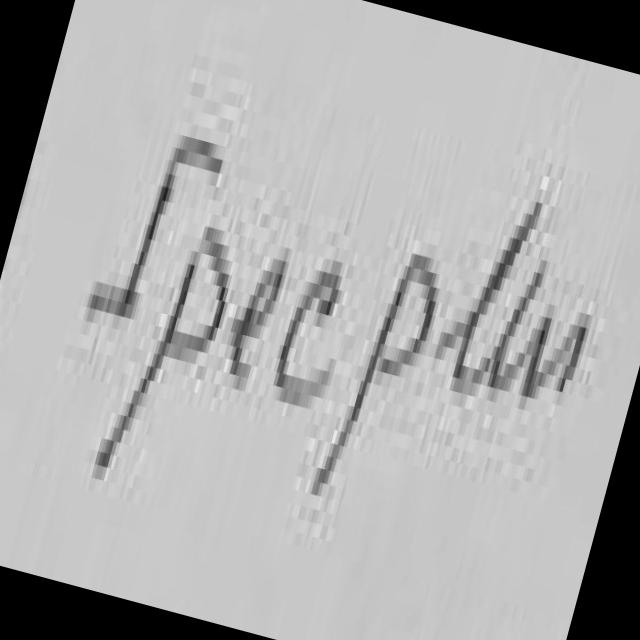I: (91, 136, 221, 312)
c: (278, 262, 341, 401)
e: (233, 259, 287, 389)
l: (439, 202, 544, 393)
p: (99, 227, 226, 461), (315, 254, 437, 495)
s: (538, 314, 591, 393)
u: (491, 260, 553, 407)
